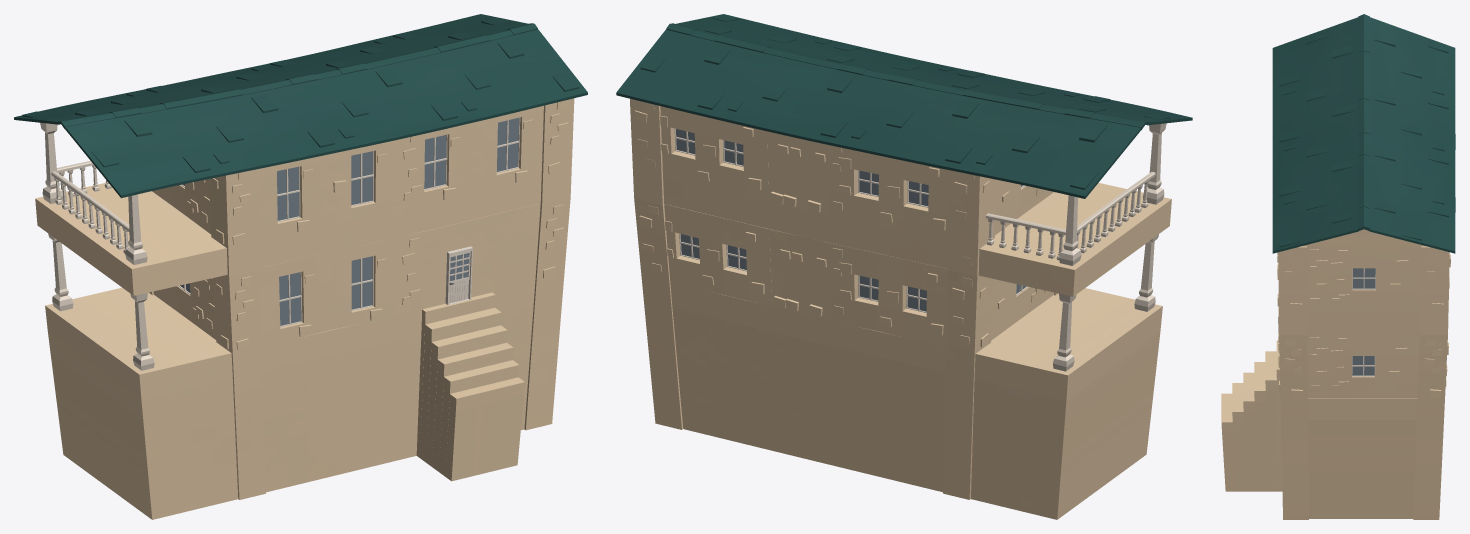
Rendered from 5 skewed - col.glb.
3 views of the same model, side by side, from view 1: azimuth 30°, elevation 25°; view 2: azimuth 150°, elevation 25°; view 3: azimuth 270°, elevation 25° (orthographic). The views are drawn at different scales.
Visible parts, largest first — view 1: 5 skewed - col.001; view 2: 5 skewed - col.001; view 3: 5 skewed - col.001.
Boxes of the visible parts, x1,y1,x2,y2 form: 5 skewed - col.001: (14, 14, 587, 519); 5 skewed - col.001: (616, 14, 1192, 519); 5 skewed - col.001: (1221, 14, 1455, 519).
Bounding box in the file's own units: 39.01 × 29.58 × 19.54.
Materials: 3 (1 with a texture image).
